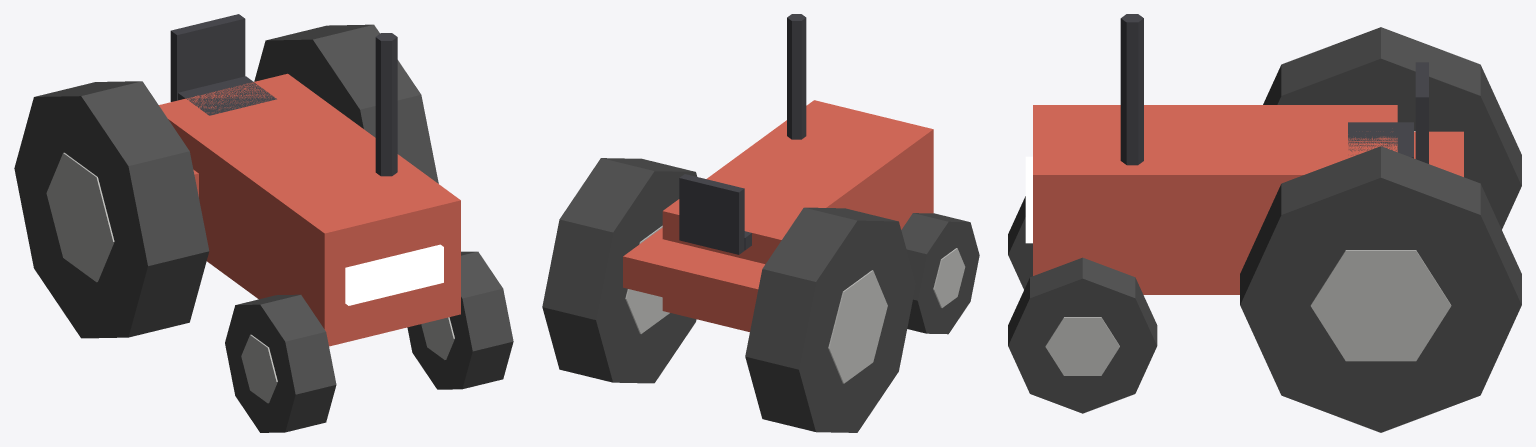
The model's file is tractor.glb.
3 renders of one model, left to right at view 1: azimuth 30°, elevation 25°; view 2: azimuth 150°, elevation 25°; view 3: azimuth 270°, elevation 25°, orthographic. The views are drawn at different scales.
Parts seen in each view (by area): view 1: tractor; view 2: tractor; view 3: tractor.
Part boxes in pixels (x1,y1,x2,y2): tractor: (14,14,513,432); tractor: (542,14,979,432); tractor: (1008,14,1521,432).
Size of the model in its own units: 2.17 by 2.4 by 3.1.
